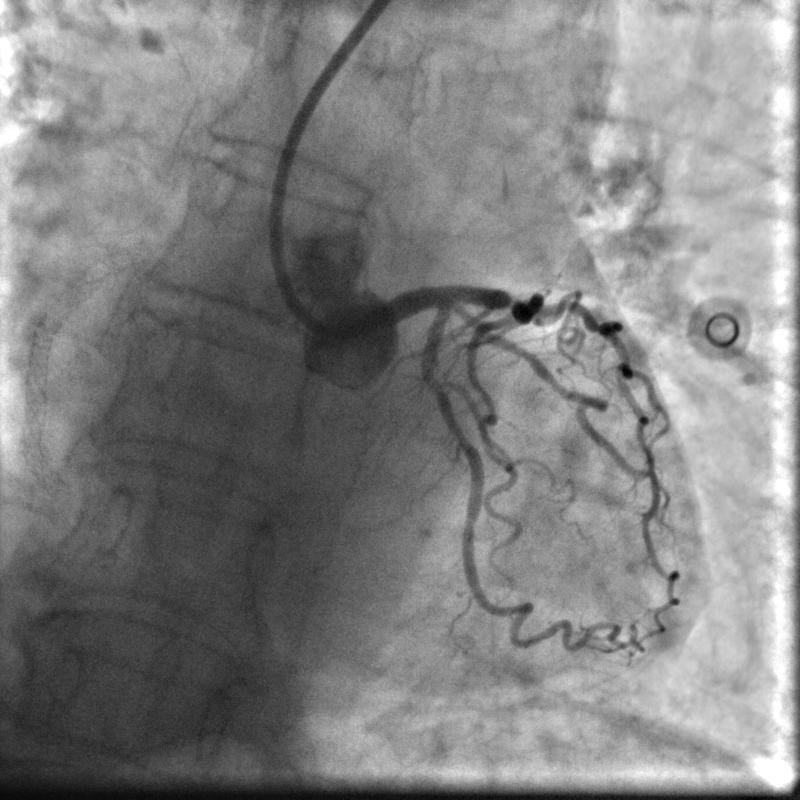Stenosis: (422, 369, 446, 390)
